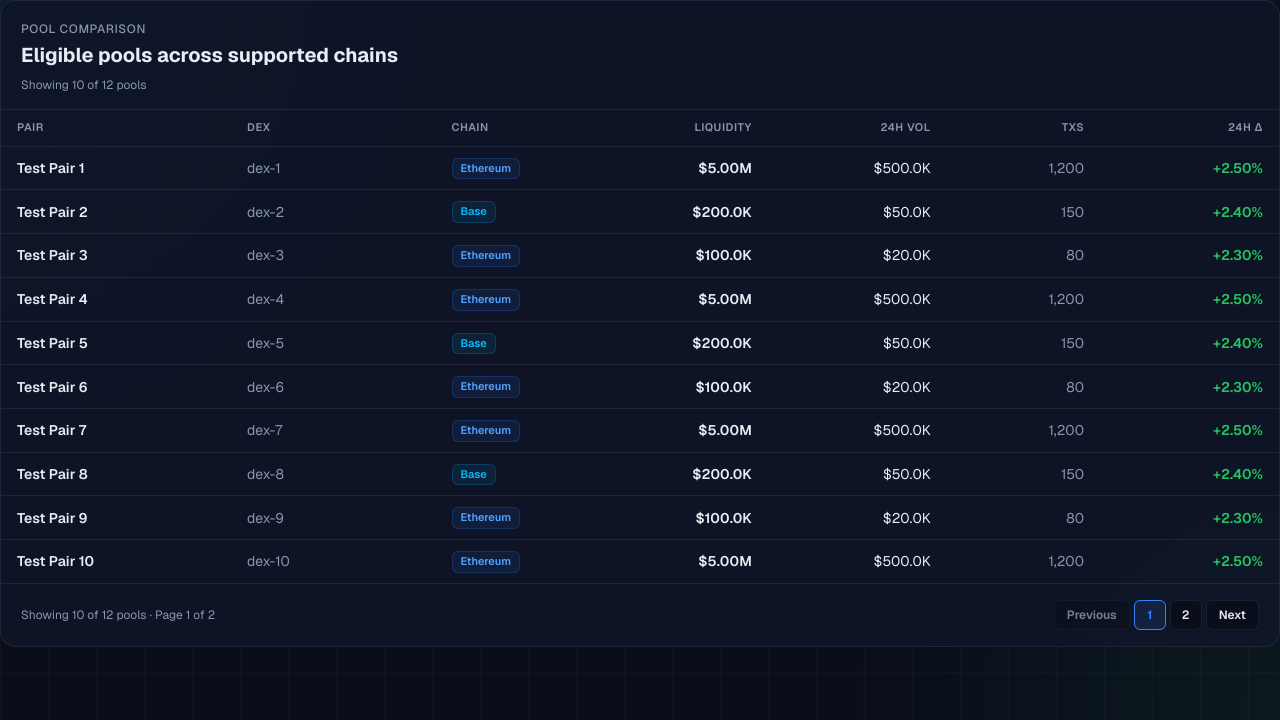
Test: PoolsTable rendering › paginates long pool lists and switches pages
Expected: the text "Showing 10 of 12 pools · Page 1 of 2" is shown, [21, 607, 215, 623]
Expected: the button "Previous" is disabled, [1054, 600, 1130, 630]
Click the button "Next" at (1232, 615), box [1206, 600, 1259, 630]
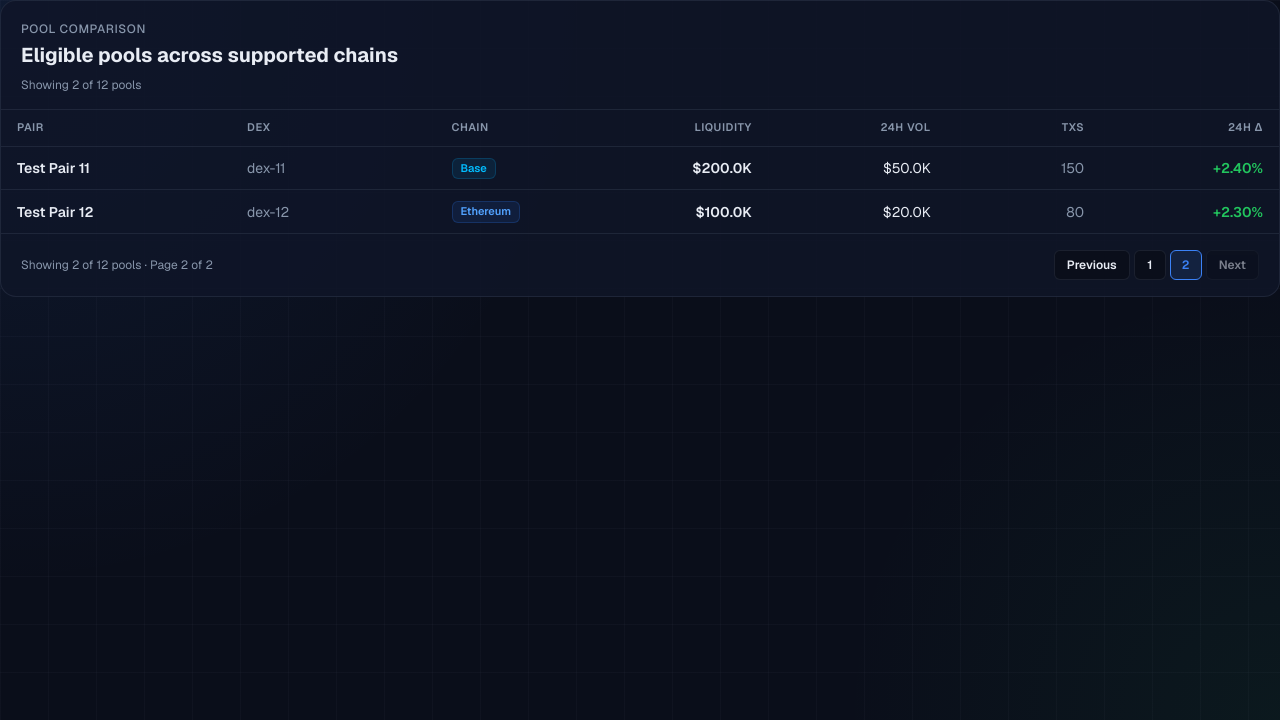
Result: the text "Showing 2 of 12 pools · Page 2 of 2" is shown at [21, 257, 213, 273]
Result: the button "Previous" is enabled at [1054, 250, 1130, 280]
Result: the button "Next" is disabled at [1206, 250, 1259, 280]
